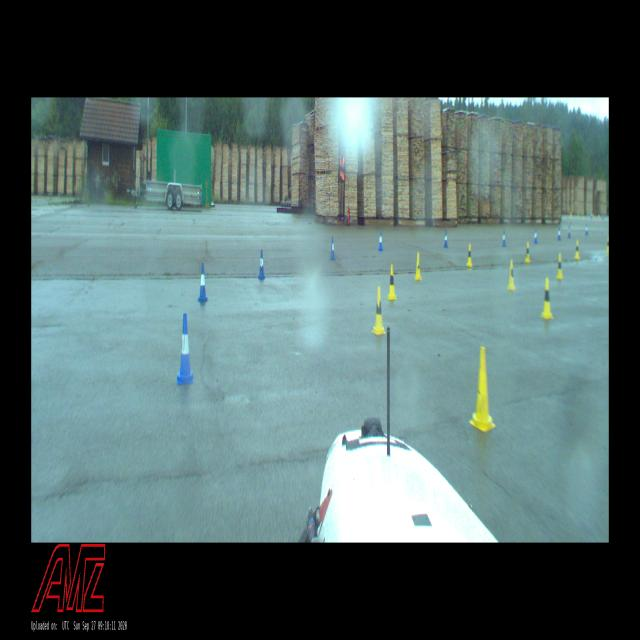blue_cone: (178, 313, 193, 383), (199, 263, 207, 301), (258, 250, 265, 279), (330, 237, 335, 260), (378, 230, 383, 251), (444, 230, 448, 248), (502, 230, 506, 247), (534, 230, 538, 243), (558, 227, 561, 240), (585, 223, 588, 235), (568, 226, 571, 238)
yellow_cone: (472, 347, 492, 429), (374, 287, 384, 334), (542, 278, 552, 318), (388, 264, 396, 300), (507, 259, 515, 289), (414, 252, 422, 280), (557, 253, 563, 279), (467, 244, 472, 267), (525, 242, 530, 262), (575, 240, 580, 258), (607, 236, 609, 254)
